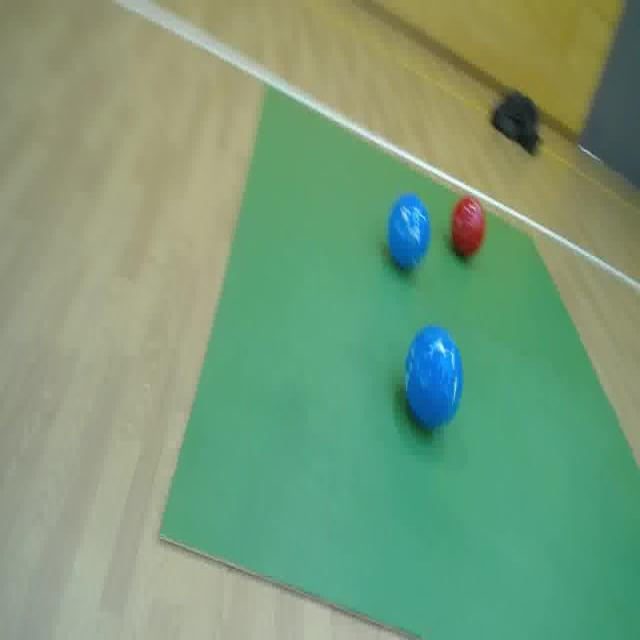blue_ball: (403, 322, 465, 432), (385, 187, 431, 275)
red_ball: (450, 192, 486, 260)
